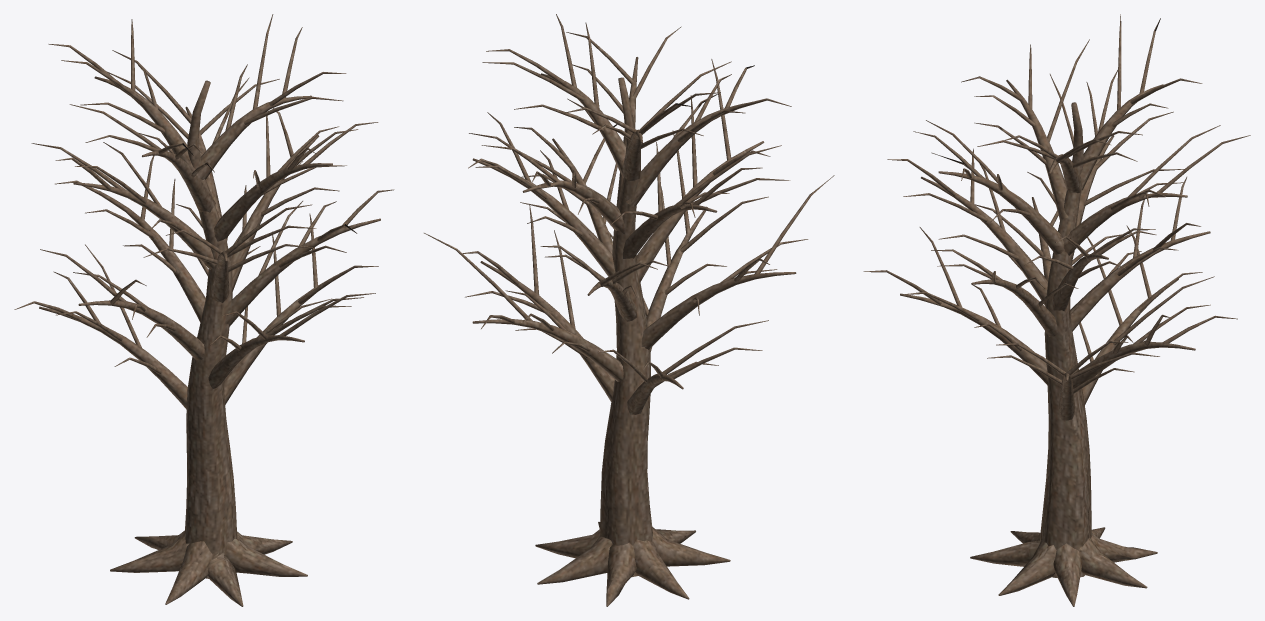
Rendered from trunk_0.fbx.
The picture shows the model from 3 angles, left to right: view 1: azimuth 30°, elevation 25°; view 2: azimuth 150°, elevation 25°; view 3: azimuth 270°, elevation 25°; orthographic projection. The views are drawn at different scales.
Parts seen in each view (by area): view 1: trunk_0; view 2: trunk_0; view 3: trunk_0.
Part boxes in pixels (<box>): trunk_0: <box>14,14,394,606</box>; trunk_0: <box>424,14,834,606</box>; trunk_0: <box>863,14,1250,606</box>.
Size of what is drawn, in the model's own units: 3.73 by 5.91 by 4.16.
1 material, 1 textured.
